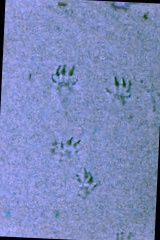ecureuil: (44, 62, 82, 112), (103, 69, 139, 106), (44, 133, 84, 166), (69, 165, 102, 199)
